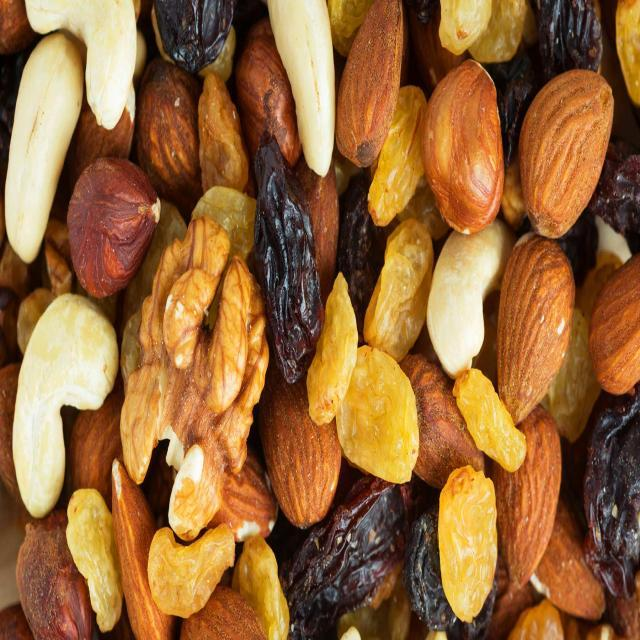Frutta secca: (5, 9, 634, 624)
